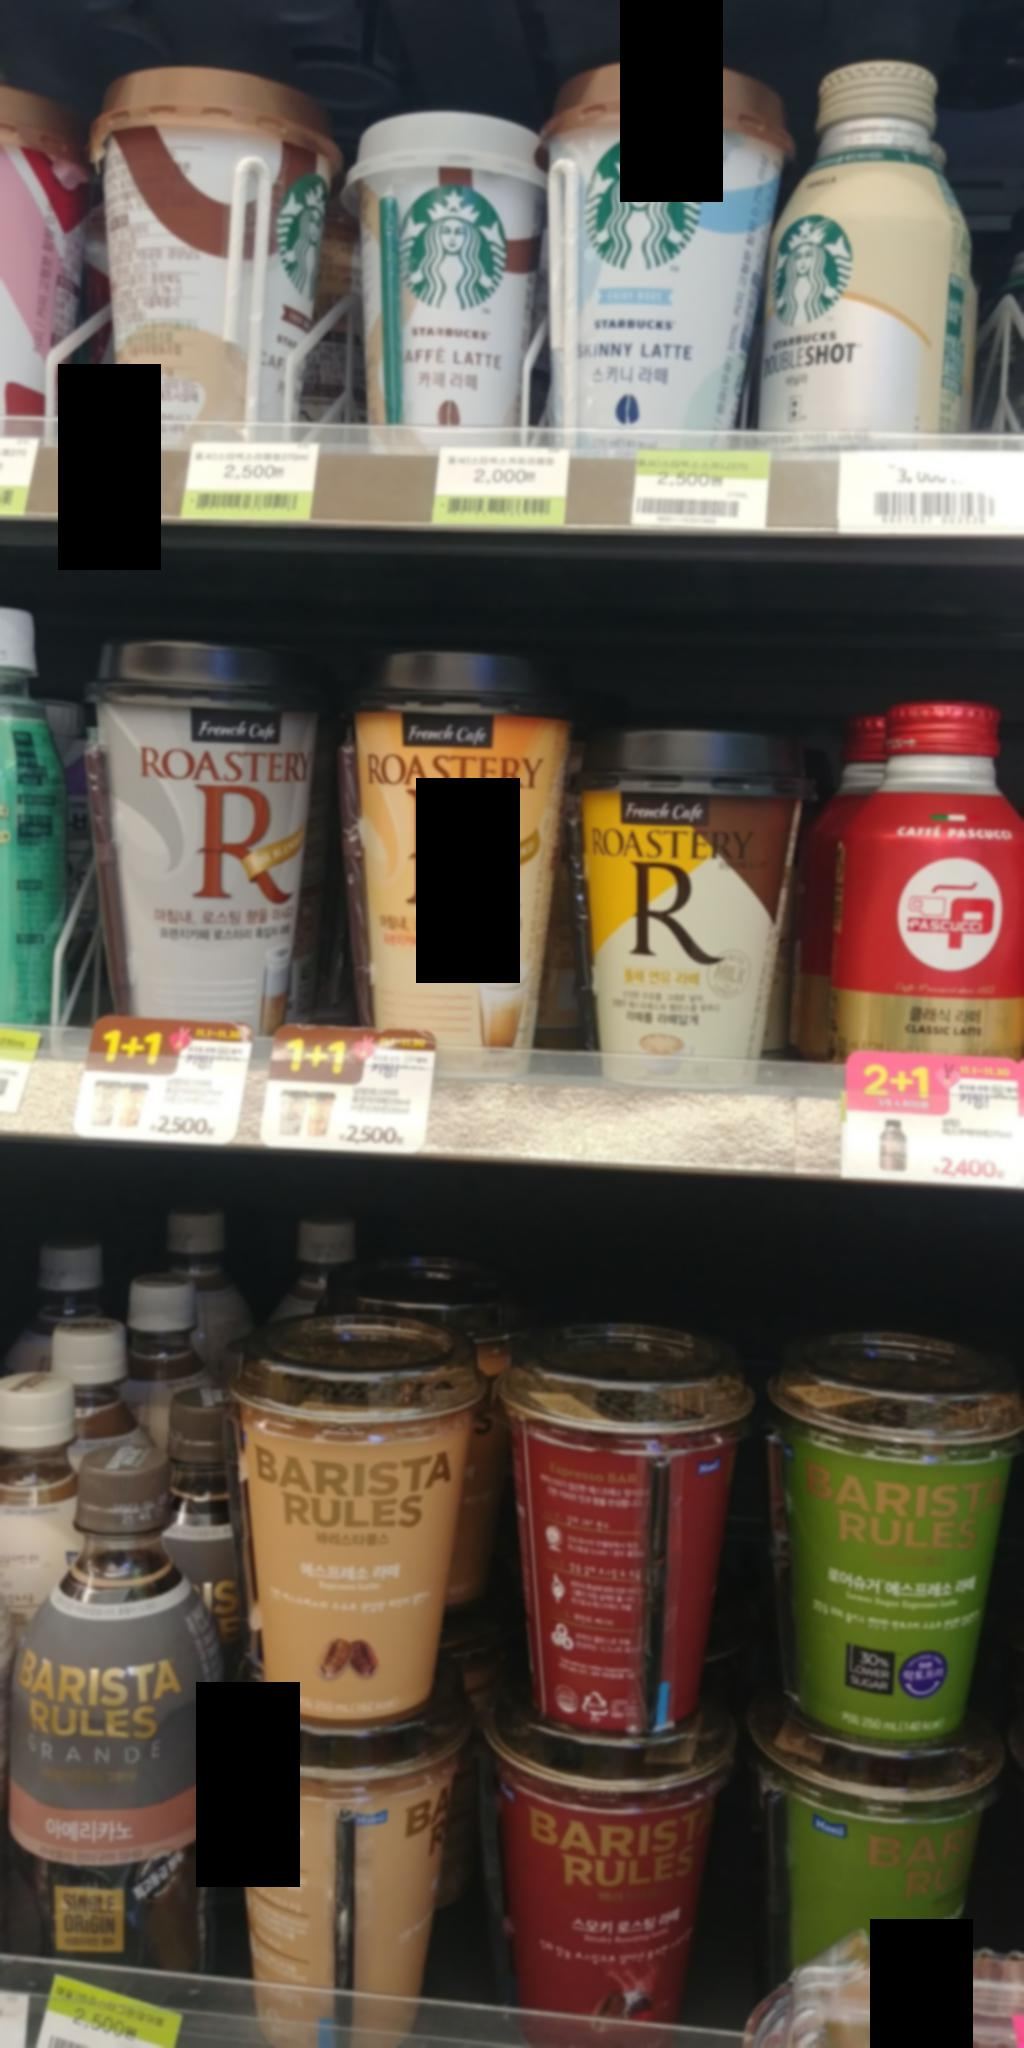baristarules_espressolatte: (204, 1318, 488, 1733)
starbucks_cafelatte: (76, 44, 338, 456)
